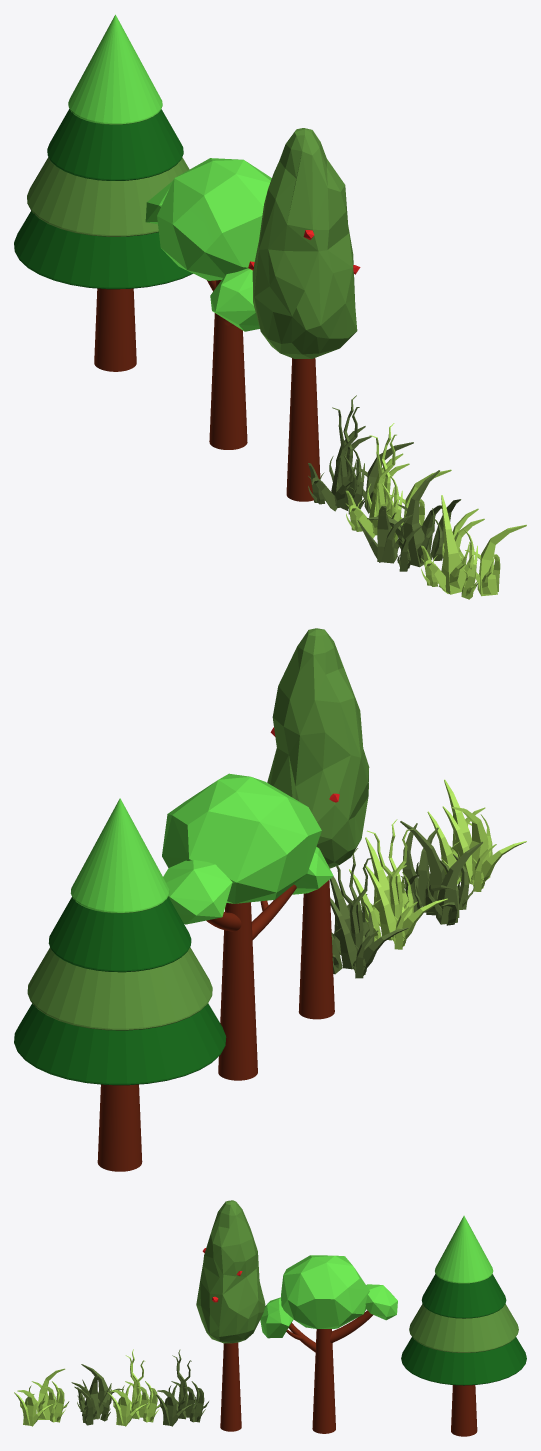
The model's file is Trees.fbx.
3 renders of one model, top to bottom at view 1: azimuth 30°, elevation 25°; view 2: azimuth 150°, elevation 25°; view 3: azimuth 270°, elevation 25°, orthographic. The views are drawn at different scales.
Parts seen in each view (by area): view 1: Cylinder.018, Cylinder.017, Cylinder.013, Cube.147, Cube.146, Cube.149, Cube.148; view 2: Cylinder.018, Cylinder.013, Cylinder.017, Cube.146, Cube.148, Cube.149, Cube.147; view 3: Cylinder.018, Cylinder.013, Cylinder.017, Cube.148, Cube.149, Cube.147, Cube.146.
Part boxes in pixels (box(x1,y1,x2,y2)): Cylinder.018: box(14, 14, 192, 371); Cylinder.017: box(248, 128, 360, 501); Cylinder.013: box(145, 158, 271, 449); Cube.147: box(421, 495, 526, 599); Cube.146: box(357, 470, 461, 571); Cube.149: box(308, 395, 413, 514); Cube.148: box(345, 423, 451, 542); Cylinder.018: box(14, 798, 226, 1171); Cylinder.013: box(162, 773, 333, 1080); Cylinder.017: box(267, 628, 369, 1019); Cube.146: box(400, 821, 482, 925); Cube.148: box(349, 819, 447, 949); Cube.149: box(329, 848, 408, 978); Cube.147: box(427, 779, 526, 891); Cylinder.018: box(401, 1215, 526, 1436); Cylinder.013: box(260, 1255, 397, 1433); Cylinder.017: box(196, 1200, 265, 1431); Cube.148: box(107, 1349, 159, 1426); Cube.149: box(156, 1349, 208, 1426); Cube.147: box(14, 1368, 69, 1426); Cube.146: box(71, 1364, 123, 1425).
Size of the model in its own units: 270 by 544 by 1100.
